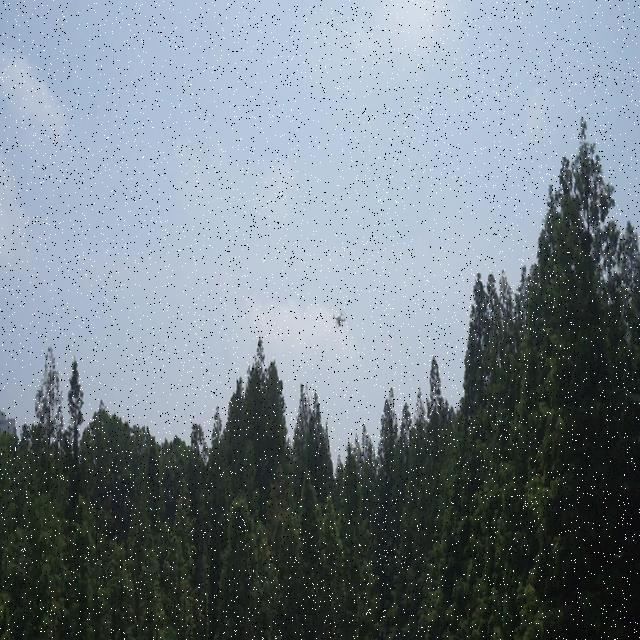UAV: (330, 310, 346, 329)
